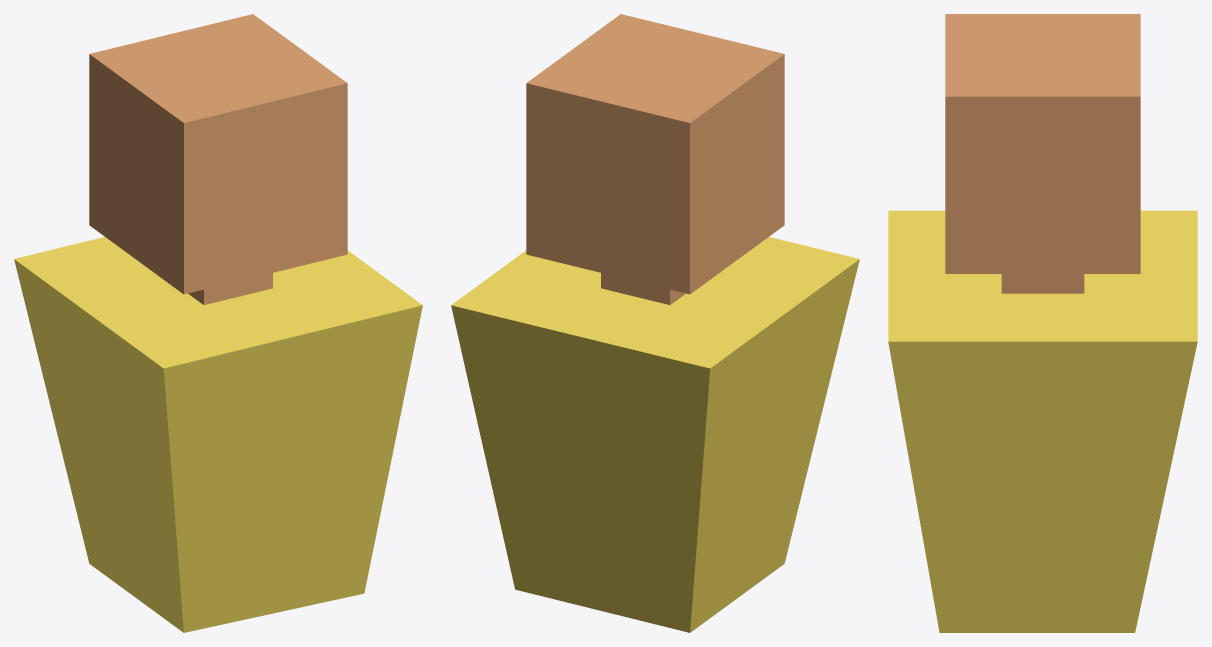
File: character.fbx
The picture shows the model from 3 angles, left to right: view 1: azimuth 30°, elevation 25°; view 2: azimuth 150°, elevation 25°; view 3: azimuth 270°, elevation 25°; orthographic projection. The views are drawn at different scales.
Parts seen in each view (by area): view 1: Cube, Cube.002, Cube.001; view 2: Cube, Cube.002, Cube.001; view 3: Cube, Cube.002, Cube.001.
Part boxes in pixels (x1,y1,x2,y2): Cube: [14, 237, 422, 632]; Cube.002: [89, 14, 347, 294]; Cube.001: [188, 273, 272, 304]; Cube: [451, 237, 859, 632]; Cube.002: [526, 14, 784, 294]; Cube.001: [601, 273, 685, 304]; Cube: [888, 210, 1197, 632]; Cube.002: [945, 14, 1140, 273]; Cube.001: [1001, 274, 1084, 293].
Size of the model in its own units: 3.17 by 5.97 by 3.17.
